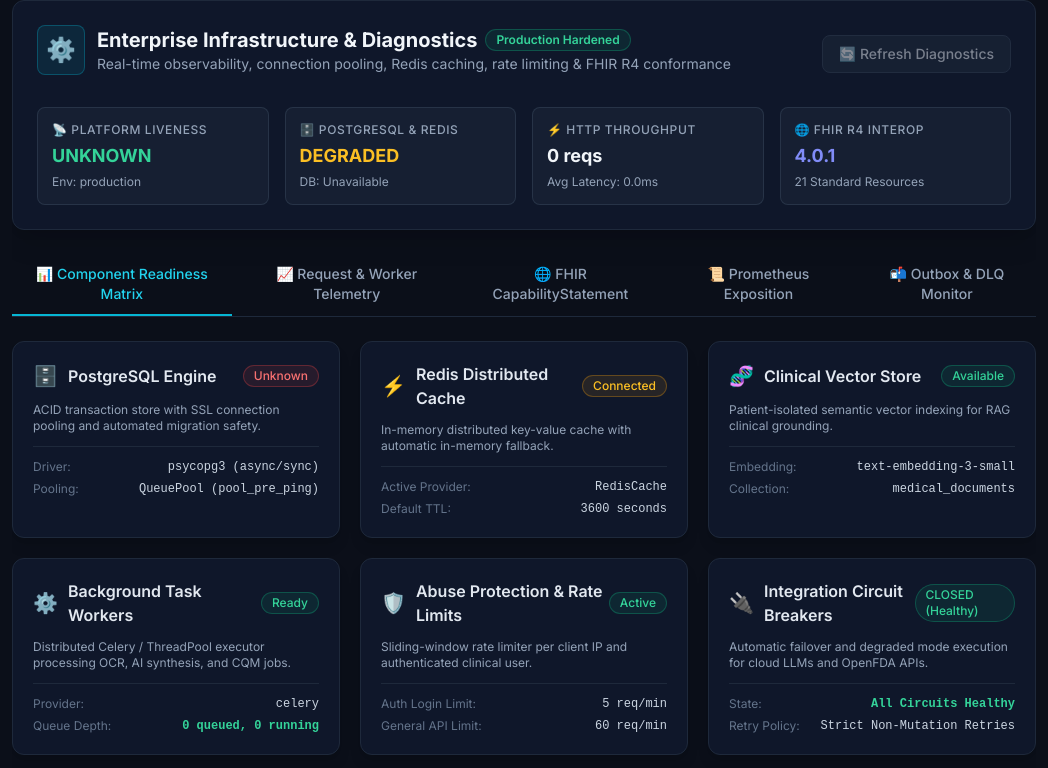
Test: Phase 9.0.23 Enterprise UI Orchestration › SystemDiagnosticsWorkspace navigates to Outbox & DLQ Monitor subtab
This screenshot has width=1048, height=768.
Click the button "📬 Outbox & DLQ Monitor": (947, 285) [858,254,1036,316]
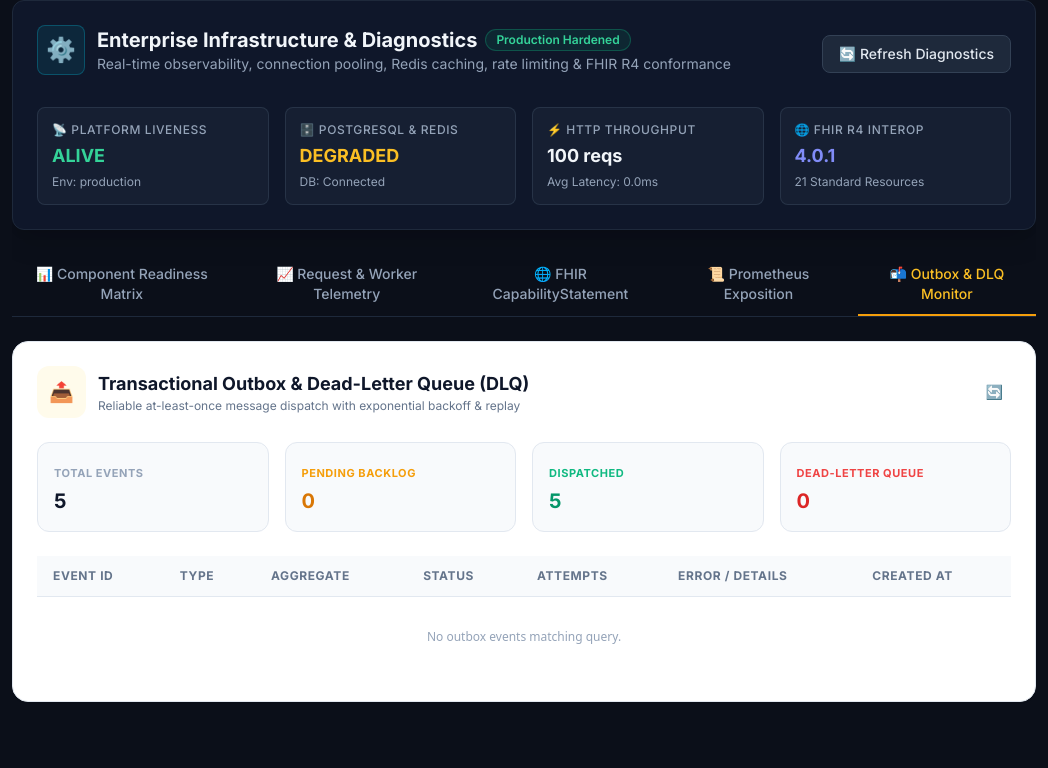
Check: the element with test id "outbox-dlq-tab-panel" is shown, box [12,341,1036,702]
Check: the heading "Transactional Outbox & Dead-Letter Queue (DLQ)" is shown, box [98,370,529,398]
